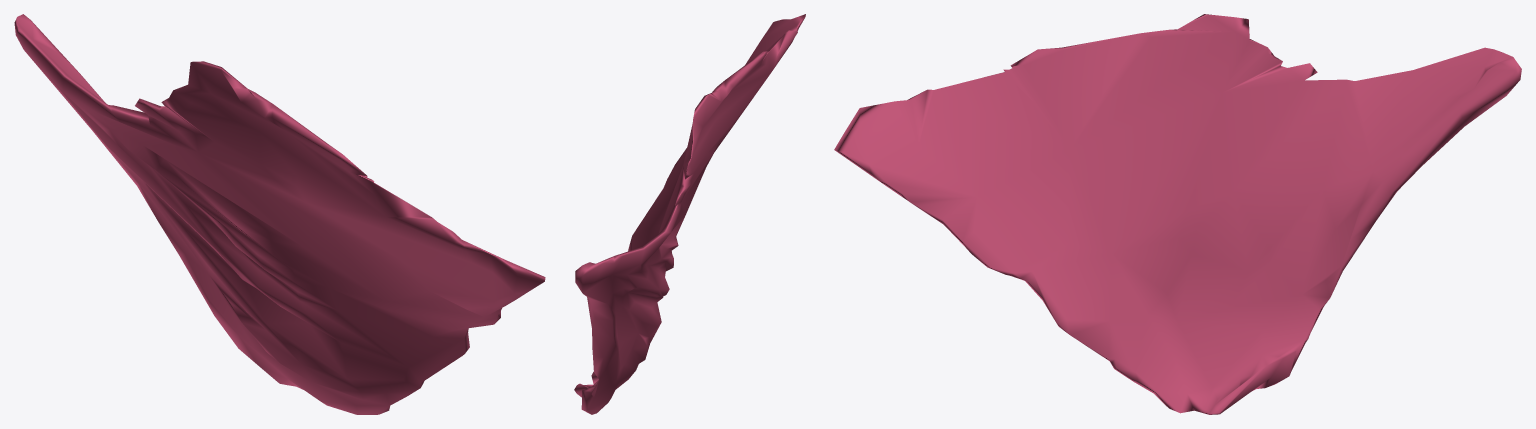
The picture shows the model from 3 angles, left to right: view 1: azimuth 30°, elevation 25°; view 2: azimuth 150°, elevation 25°; view 3: azimuth 270°, elevation 25°; orthographic projection. The views are drawn at different scales.
Parts seen in each view (by area): view 1: 右侧鼻肌; view 2: 右侧鼻肌; view 3: 右侧鼻肌.
Boxes of the visible parts, left/top/right/bottom form: 右侧鼻肌: left=14, top=14, right=545, bottom=414; 右侧鼻肌: left=574, top=14, right=805, bottom=414; 右侧鼻肌: left=834, top=14, right=1521, bottom=414.
Size of the model in its own units: 0.0195 by 0.0321 by 0.0594.
